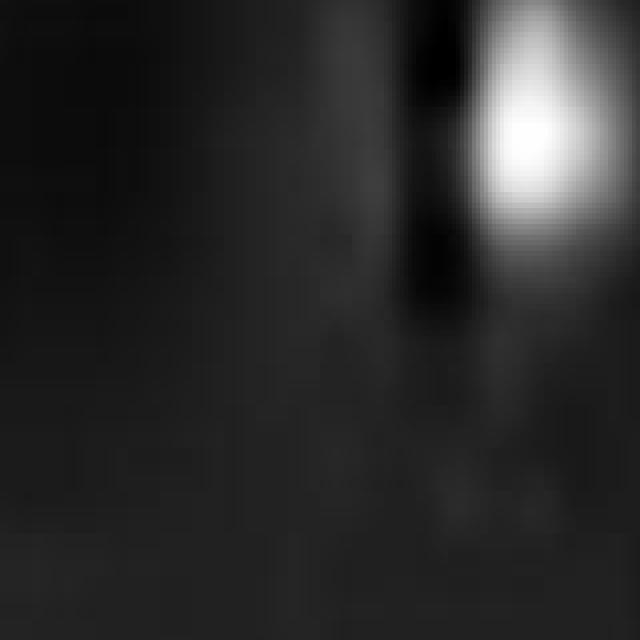person: (445, 1, 640, 353)
